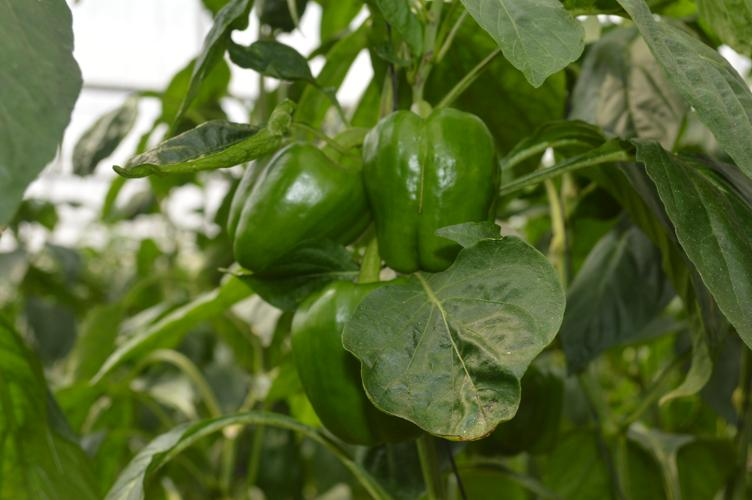BellPepper: (224, 126, 367, 276), (289, 279, 423, 438), (364, 110, 495, 271)
